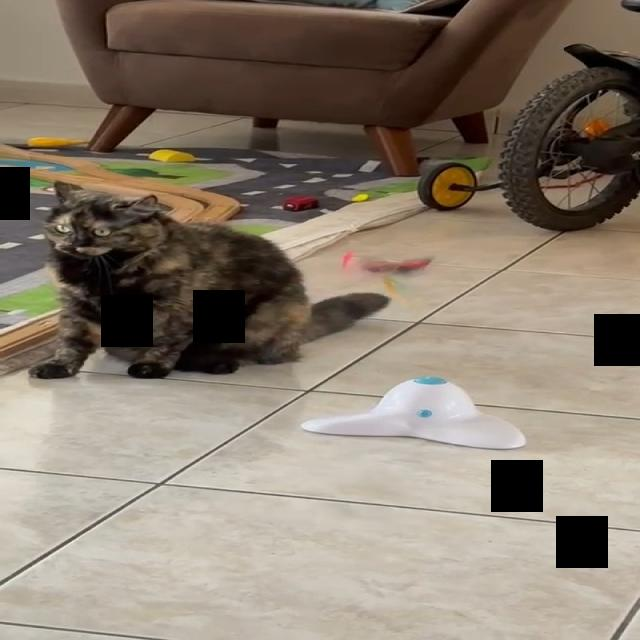authorized: (28, 180, 391, 380)
